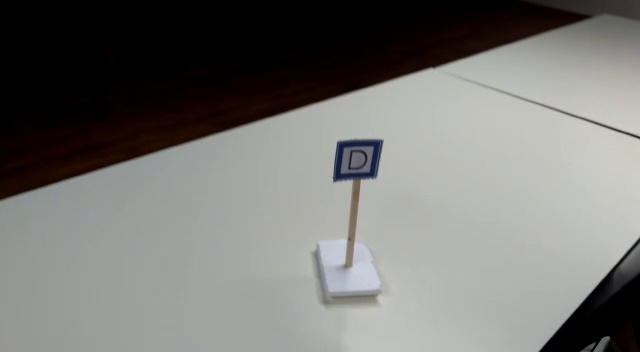durak: (333, 137, 383, 181)
